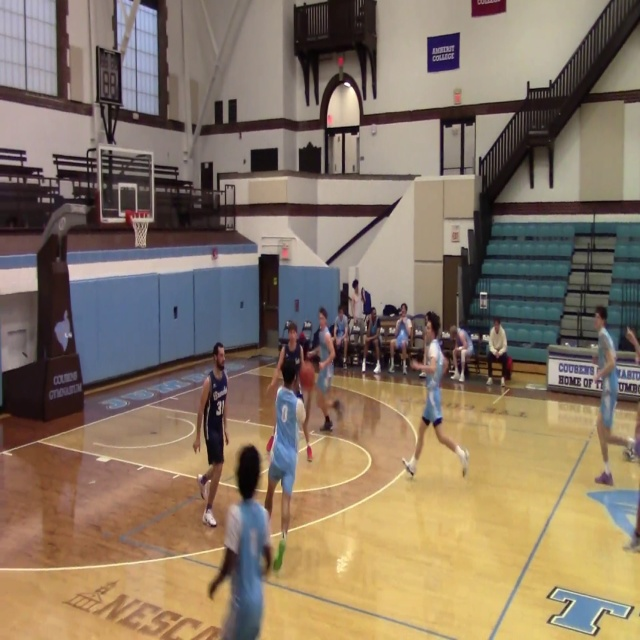Basketball: (299, 361, 315, 389), (296, 398, 306, 424)
